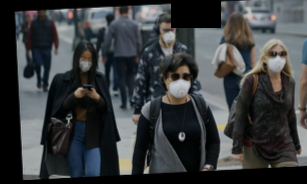with_mask: (166, 70, 193, 99), (160, 25, 177, 45), (77, 54, 94, 73)
